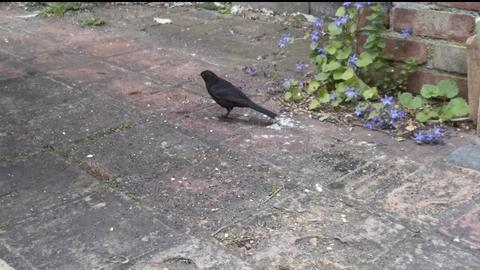blackbird: (196, 70, 278, 123)
